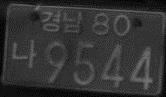0: (113, 13, 131, 37)
4: (130, 44, 153, 91), (100, 44, 124, 89)
5: (71, 42, 95, 86)
8: (92, 11, 110, 36)
9: (43, 41, 67, 84)
경남_O: (41, 10, 83, 33)
나: (10, 37, 36, 71)
